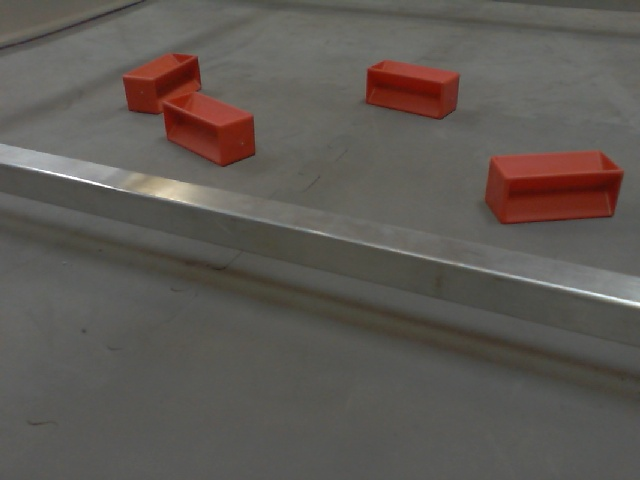RedSample: (482, 149, 623, 226), (158, 88, 259, 171), (363, 56, 463, 122), (122, 48, 202, 115)
